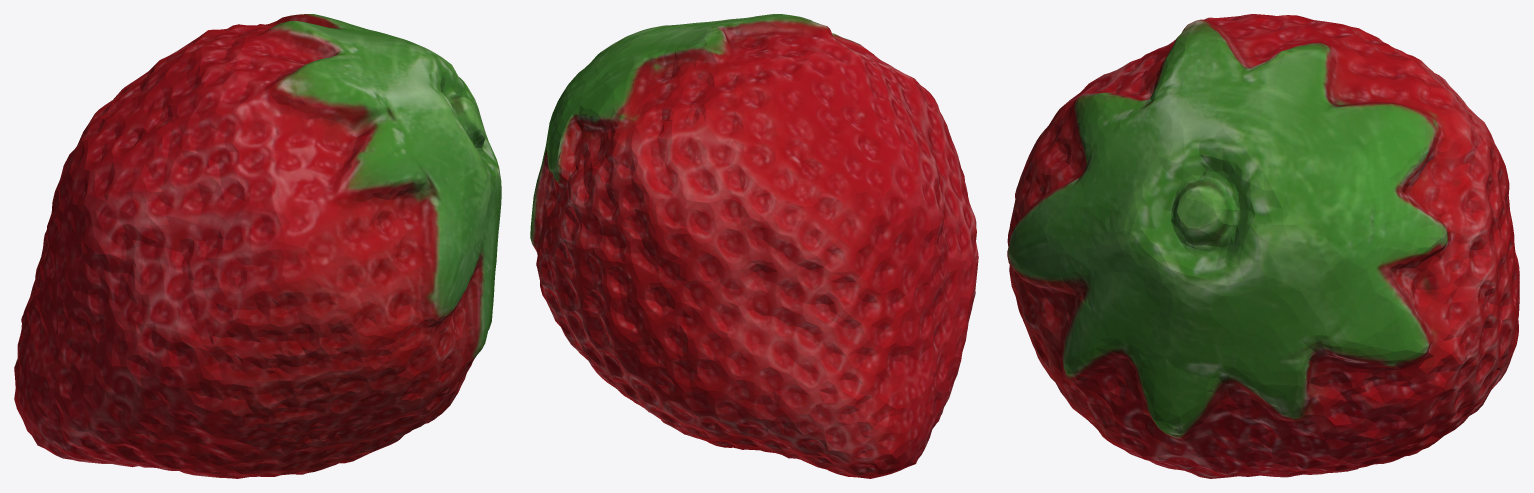
Rendered from strawberry.glb.
3 renders of one model, left to right at view 1: azimuth 30°, elevation 25°; view 2: azimuth 150°, elevation 25°; view 3: azimuth 270°, elevation 25°, orthographic. The views are drawn at different scales.
Parts seen in each view (by area): view 1: textured.obj; view 2: textured.obj; view 3: textured.obj.
Boxes of the visible parts, x1,y1,x2,y2 form: textured.obj: (14, 14, 501, 478); textured.obj: (530, 14, 978, 478); textured.obj: (1007, 14, 1519, 478).
Bounding box in the file's own units: 0.0468 × 0.0428 × 0.0462.
Materials: 1 (1 with a texture image).
